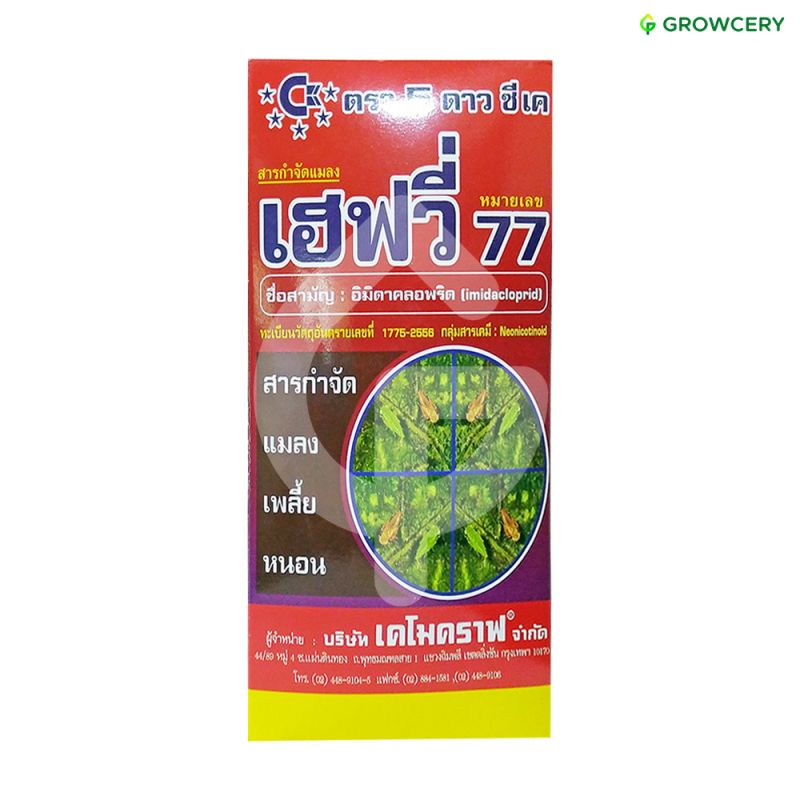Insecticide: (241, 55, 558, 749)
